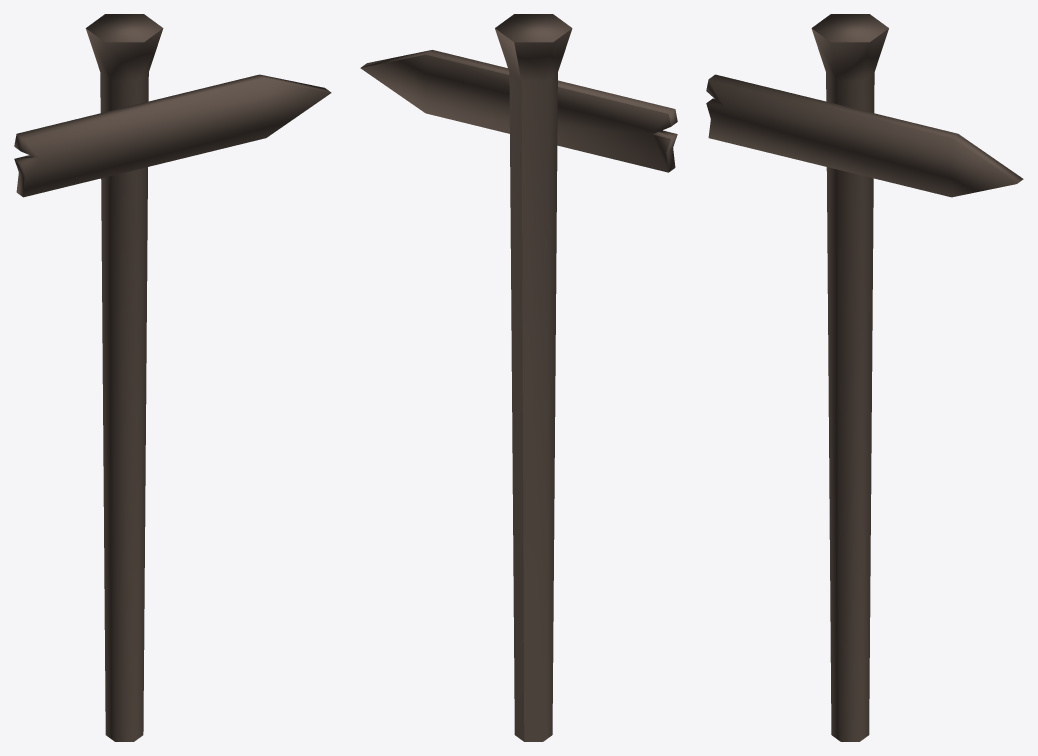
File: signpost_mirrored.glb
The picture shows the model from 3 angles, left to right: view 1: azimuth 30°, elevation 25°; view 2: azimuth 150°, elevation 25°; view 3: azimuth 330°, elevation 25°; orthographic projection.
Parts seen in each view (by area): view 1: sign_0_mirror; view 2: sign_0_mirror; view 3: sign_0_mirror.
Part boxes in pixels (bbox=[...]): sign_0_mirror: bbox=[14, 14, 331, 741]; sign_0_mirror: bbox=[360, 14, 677, 741]; sign_0_mirror: bbox=[706, 14, 1023, 741].
Bounding box in the file's own units: 0.9204 × 2 × 0.2035.
